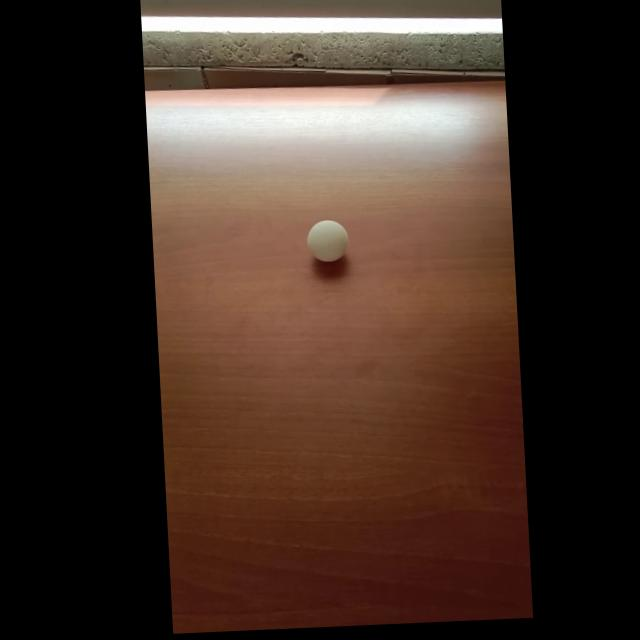white ball: (305, 218, 349, 262)
